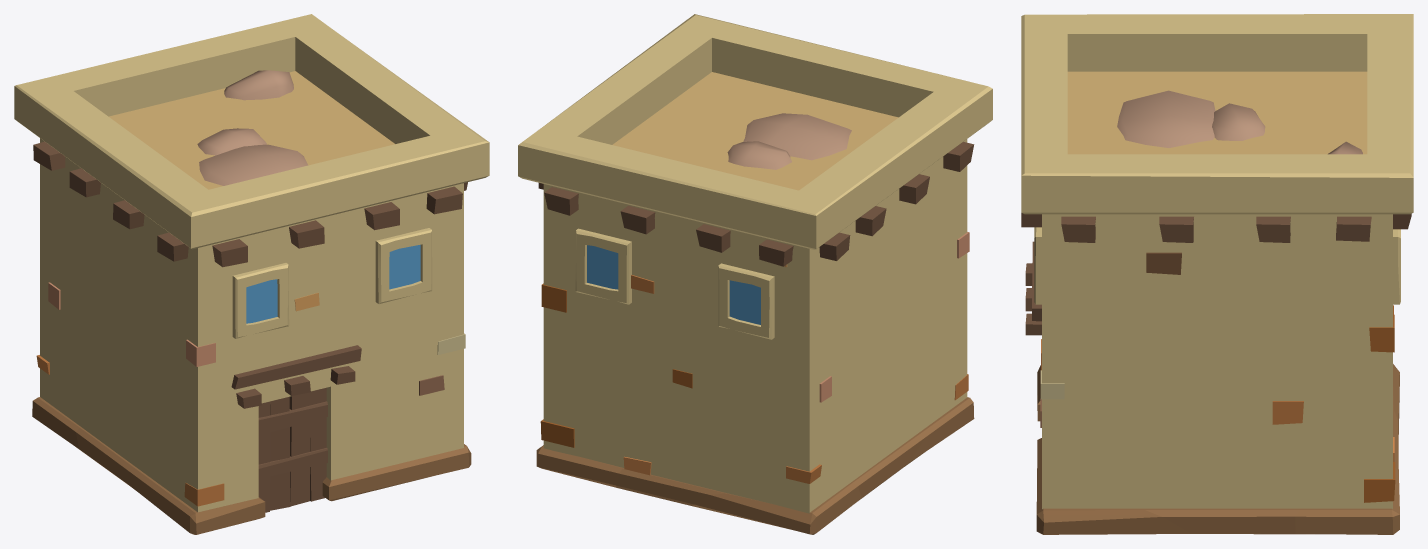
Rendered from House_B.fbx.
3 renders of one model, left to right at view 1: azimuth 30°, elevation 25°; view 2: azimuth 150°, elevation 25°; view 3: azimuth 270°, elevation 25°, orthographic. The views are drawn at different scales.
Visible parts, largest first — view 1: House_B; view 2: House_B; view 3: House_B.
Part boxes in pixels (bbox=[...]): House_B: bbox=[14, 14, 489, 534]; House_B: bbox=[518, 14, 992, 534]; House_B: bbox=[1021, 14, 1413, 534].
Size of the model in its own units: 483 by 510 by 494.
